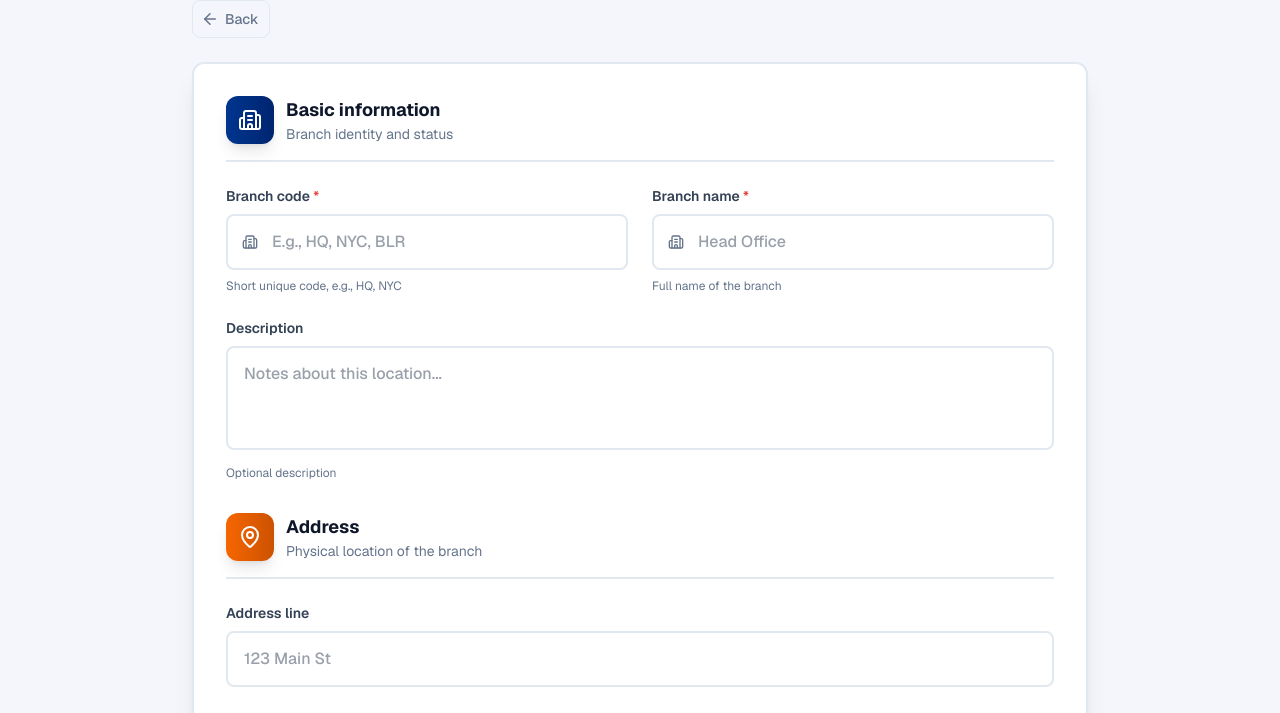
the office calendar › reads the working days back so an inverted selection is visible
Step 1. Type "MCT" into the field named "code" → (427, 242), box [226,214,628,270]
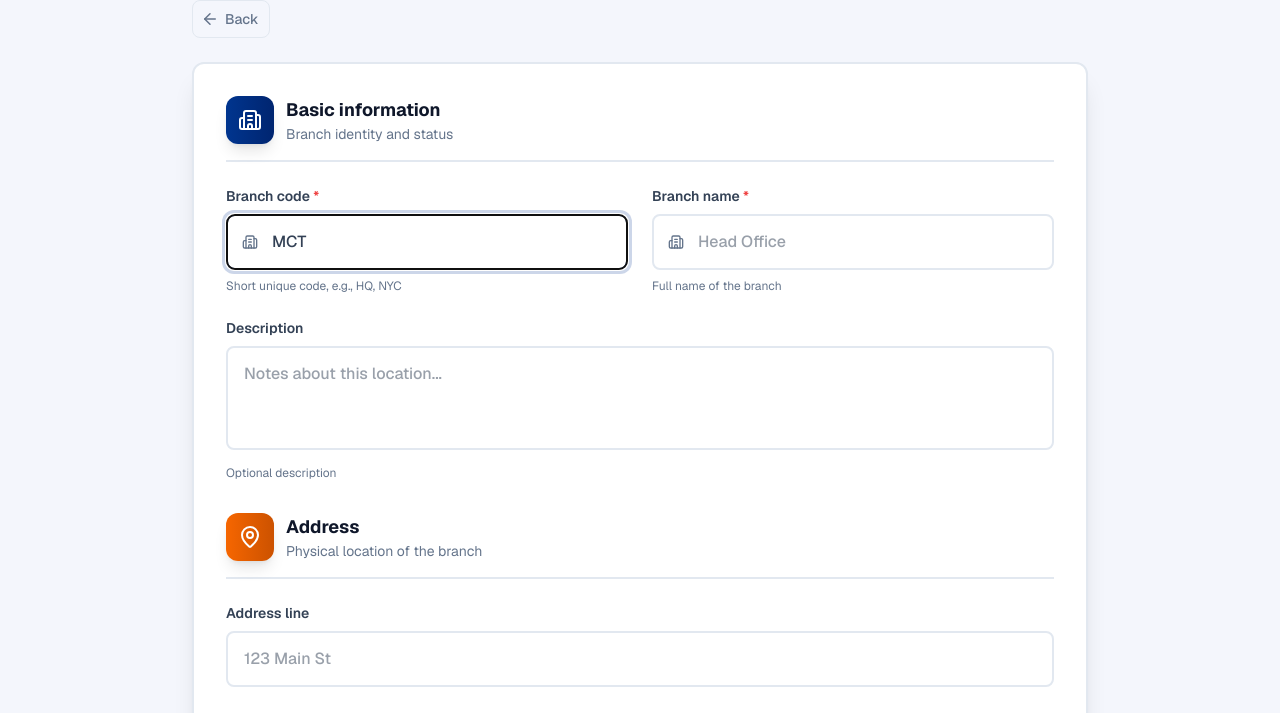
Step 2. Type "Muscat Office" into the field named "name" → (853, 242), box [652,214,1054,270]
(page scrolled)
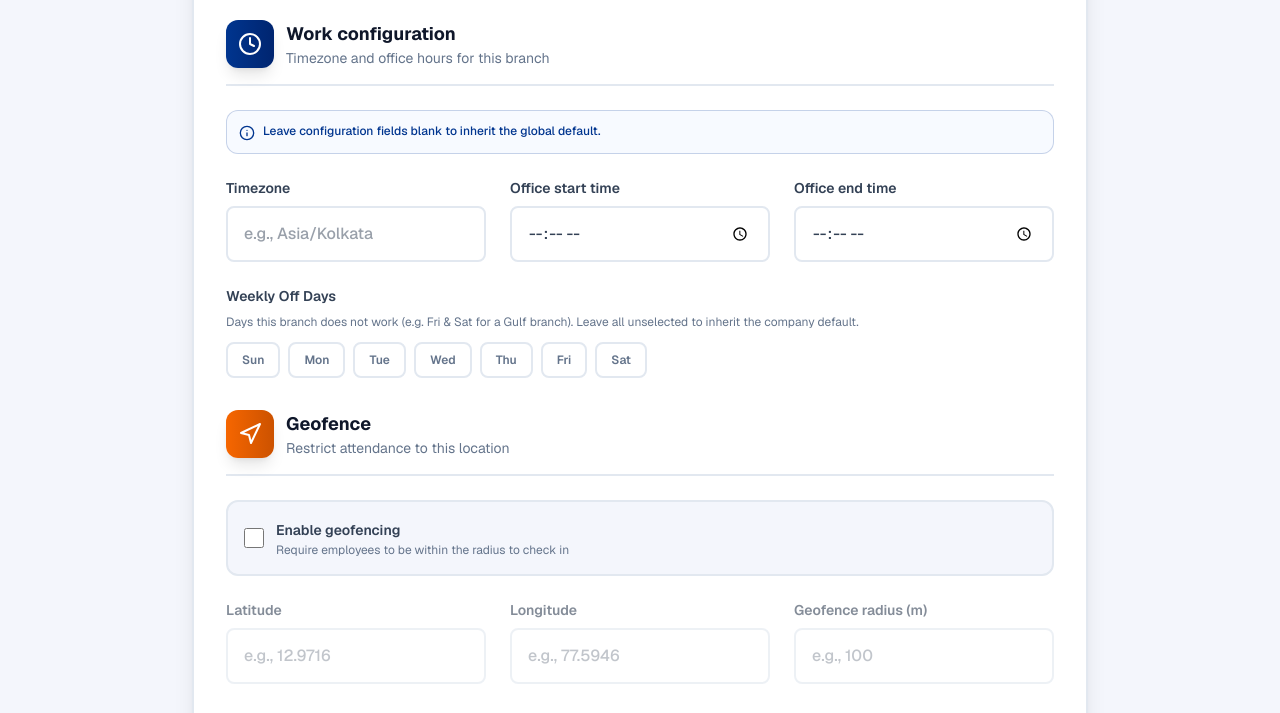
Step 3. Click the button with test id "branch-weekoff-0" → (253, 360), box [226,342,280,378]
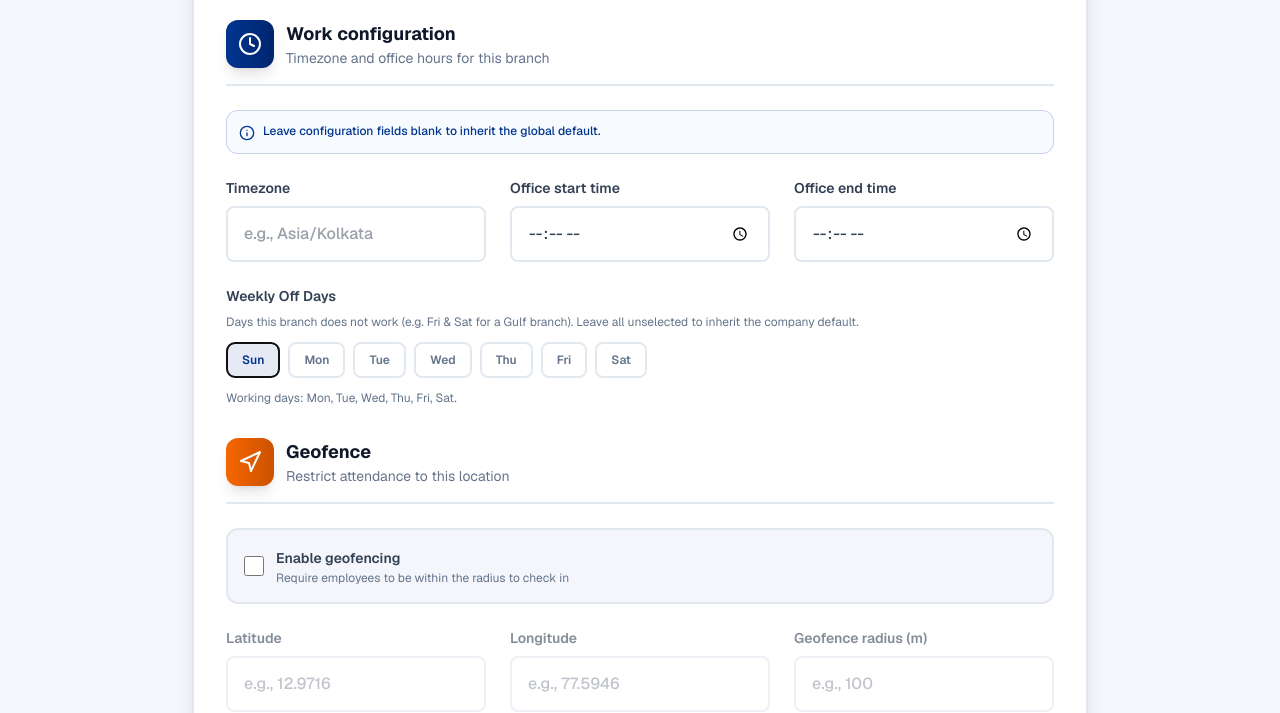
expect the text with test id "branch-weekoff-summary" does not show "rest-day (double) rates": met, box [226,390,457,406]
expect the text with test id "branch-weekoff-summary" shows "Working days: Mon, Tue, Wed, Thu, Fri, Sat": met, box [226,390,457,406]
